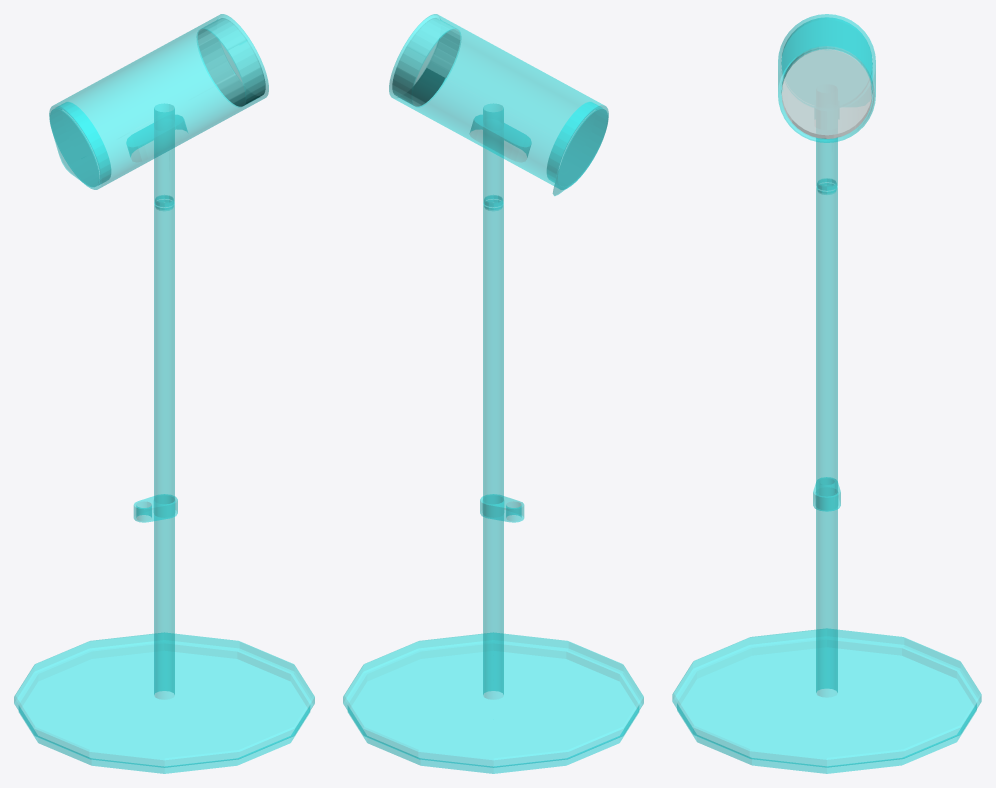
The model's file is oculusSensorv11.fbx.
The picture shows the model from 3 angles, left to right: view 1: azimuth 30°, elevation 25°; view 2: azimuth 150°, elevation 25°; view 3: azimuth 270°, elevation 25°; orthographic projection. The views are drawn at different scales.
Visible parts, largest first — view 1: senso_body.018; view 2: senso_body.018; view 3: senso_body.018.
Part boxes in pixels (left/top/right/bottom): senso_body.018: left=14, top=14, right=314, bottom=773; senso_body.018: left=343, top=14, right=643, bottom=773; senso_body.018: left=672, top=14, right=981, bottom=773.
Size of the model in its own units: 11.98 by 29.81 by 11.98.
1 material, 1 textured.
